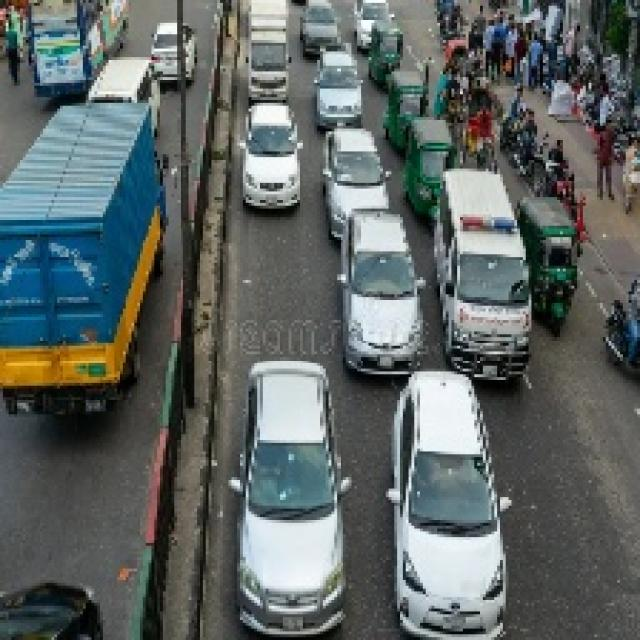bike: (512, 130, 543, 191)
car: (388, 370, 517, 638), (237, 356, 345, 616), (428, 172, 536, 383), (340, 212, 420, 369), (241, 103, 305, 217), (322, 128, 392, 226), (451, 85, 501, 164), (314, 53, 364, 127), (148, 15, 200, 83), (299, 9, 347, 51)
